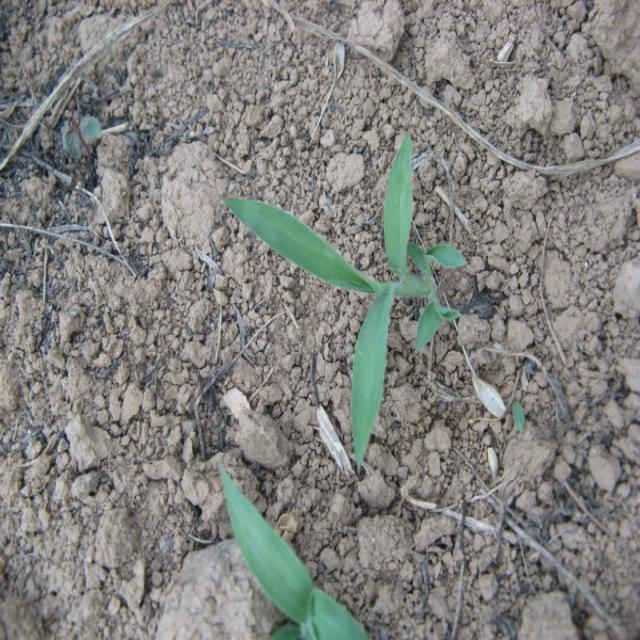bg: (222, 134, 480, 465)
